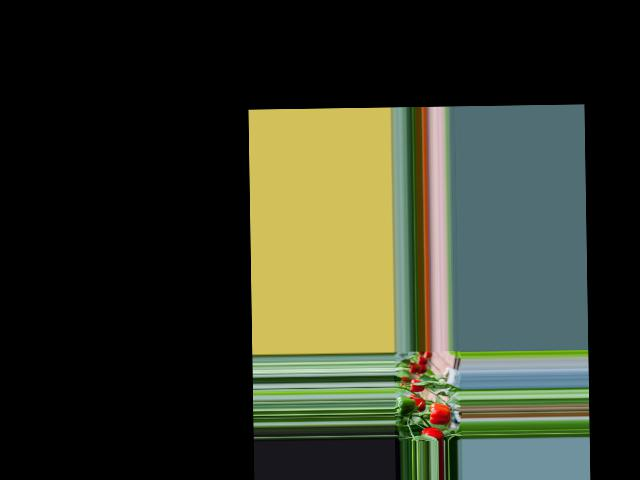bell_pepper: (406, 378, 428, 392)
